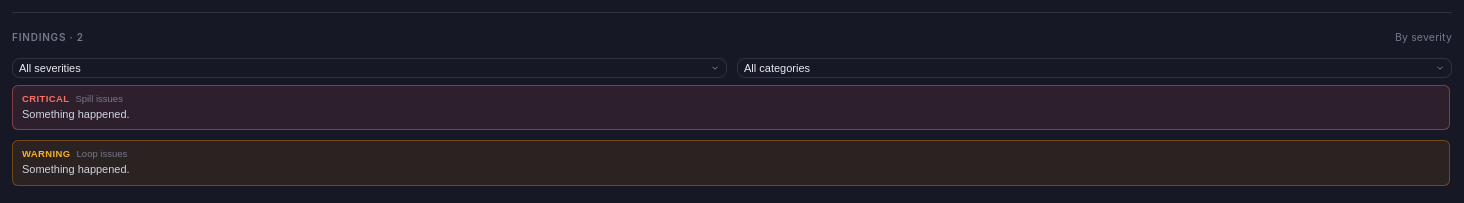
Test: FindingsList › filters by category
Step 1. Select "Spill issues" in the dropdown with test id "findings-category-filter" → (1094, 68), box 737,58 -> 1452,78
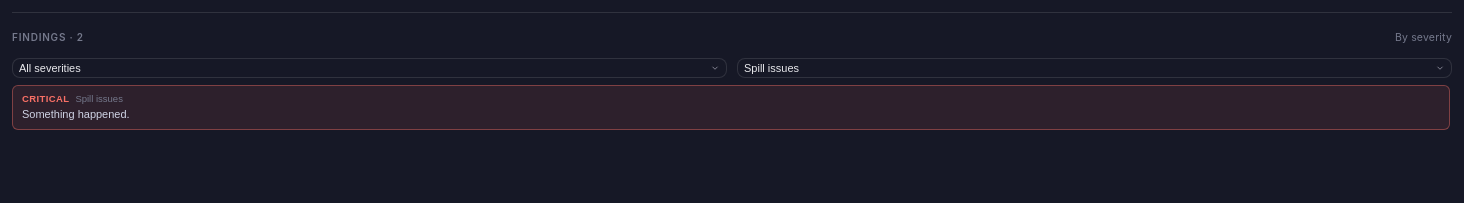
Check: the button with test id "finding-item" shows "Spill issues", box 12,85 -> 1450,130
Check: the number of buttons with test id "finding-item" is 1, box 12,85 -> 1450,130
